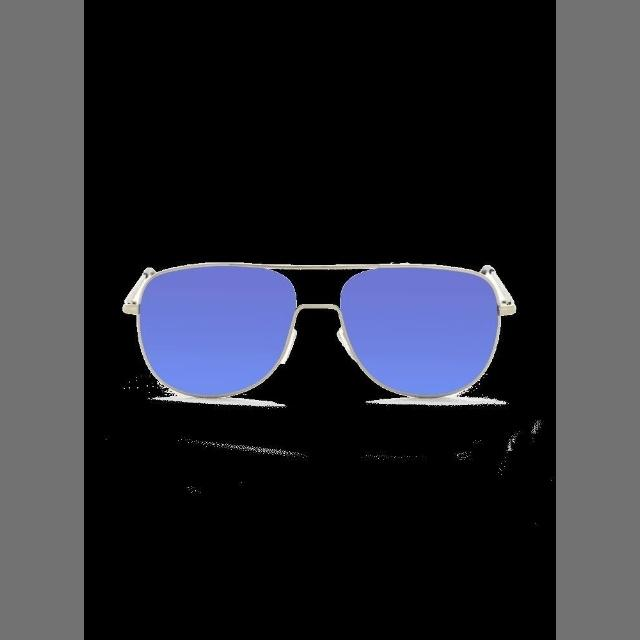Sunglasses: (99, 232, 529, 438)
